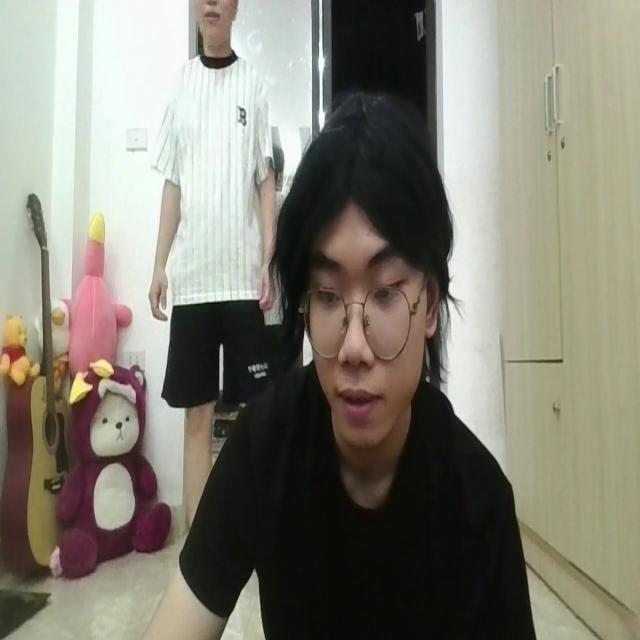extra_person: (150, 0, 276, 420)
student: (183, 99, 535, 640)
